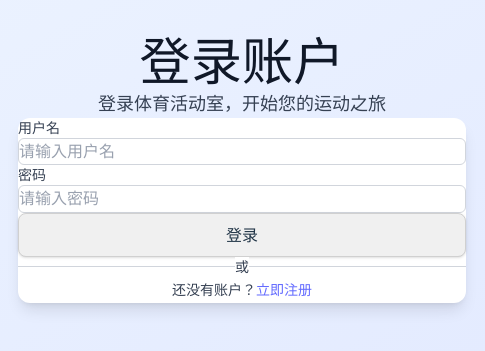
Test: LoginPage › should show validation errors for empty fields
Click the button "登录": (242, 235) [18,213,466,257]
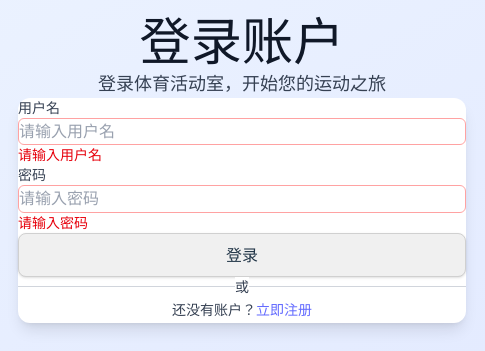
Expected: the text "请输入用户名" is shown, [18,146,102,163]
Expected: the text "请输入密码" is shown, [18,214,88,231]
